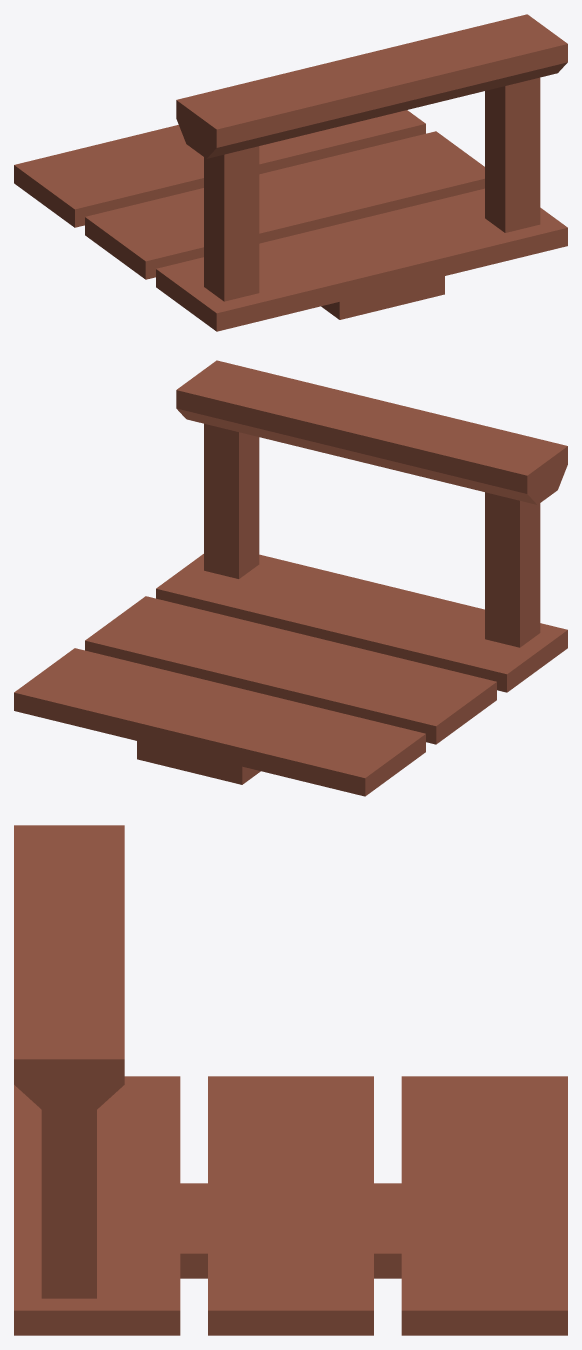
File: scaffold_small_low_railing 1.fbx
3 renders of one model, top to bottom at view 1: azimuth 30°, elevation 25°; view 2: azimuth 150°, elevation 25°; view 3: azimuth 270°, elevation 25°, orthographic. The views are drawn at different scales.
Visible parts, largest first — view 1: scaffold_small_low_railing; view 2: scaffold_small_low_railing; view 3: scaffold_small_low_railing.
Boxes of the visible parts, x1,y1,x2,y2 form: scaffold_small_low_railing: (14, 14, 567, 331); scaffold_small_low_railing: (14, 360, 567, 796); scaffold_small_low_railing: (14, 825, 567, 1335).
Size of the model in its own units: 200 by 120 by 200.
